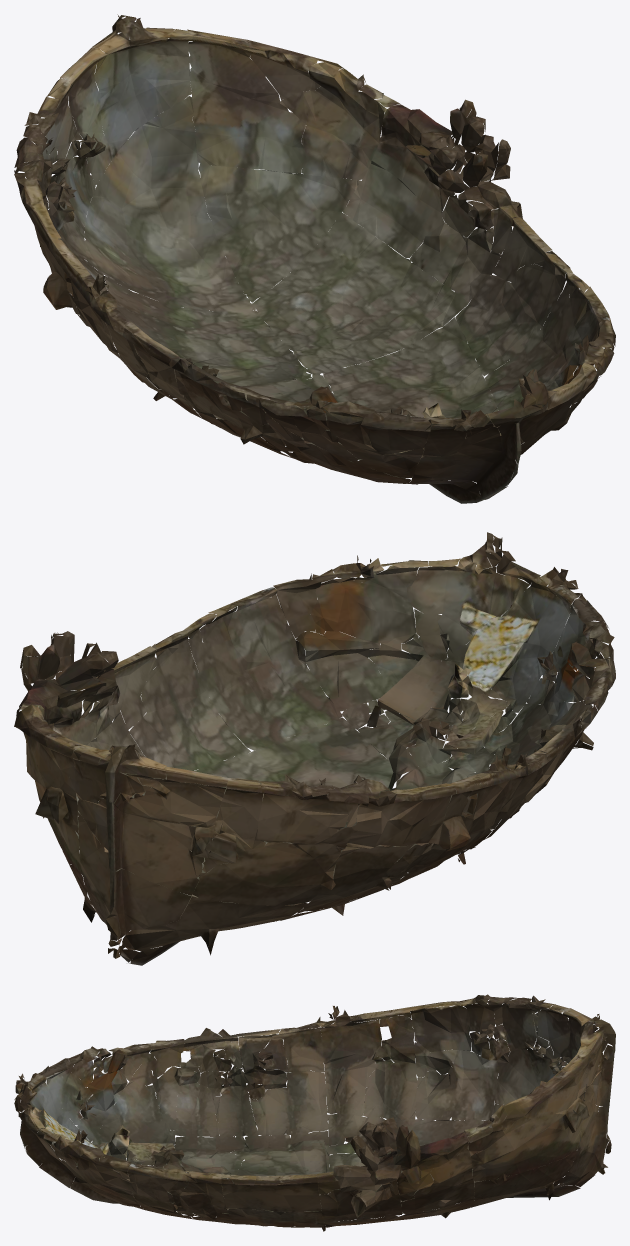
Rendered from boat_1_compressed.glb.
The picture shows the model from 3 angles, top to bottom: view 1: azimuth 30°, elevation 25°; view 2: azimuth 150°, elevation 25°; view 3: azimuth 270°, elevation 25°; orthographic projection. The views are drawn at different scales.
Parts seen in each view (by area): view 1: tripo_node_c6fb3fa7-1fa6-4f7b-ac67-e42c9de80e73; view 2: tripo_node_c6fb3fa7-1fa6-4f7b-ac67-e42c9de80e73; view 3: tripo_node_c6fb3fa7-1fa6-4f7b-ac67-e42c9de80e73.
Part boxes in pixels (bbox=[...]): tripo_node_c6fb3fa7-1fa6-4f7b-ac67-e42c9de80e73: bbox=[14, 14, 615, 503]; tripo_node_c6fb3fa7-1fa6-4f7b-ac67-e42c9de80e73: bbox=[14, 532, 615, 965]; tripo_node_c6fb3fa7-1fa6-4f7b-ac67-e42c9de80e73: bbox=[14, 994, 615, 1231].
Bounding box in the file's own units: 0.6507 × 0.3409 × 0.9995.
Materials: 1 (1 with a texture image).
